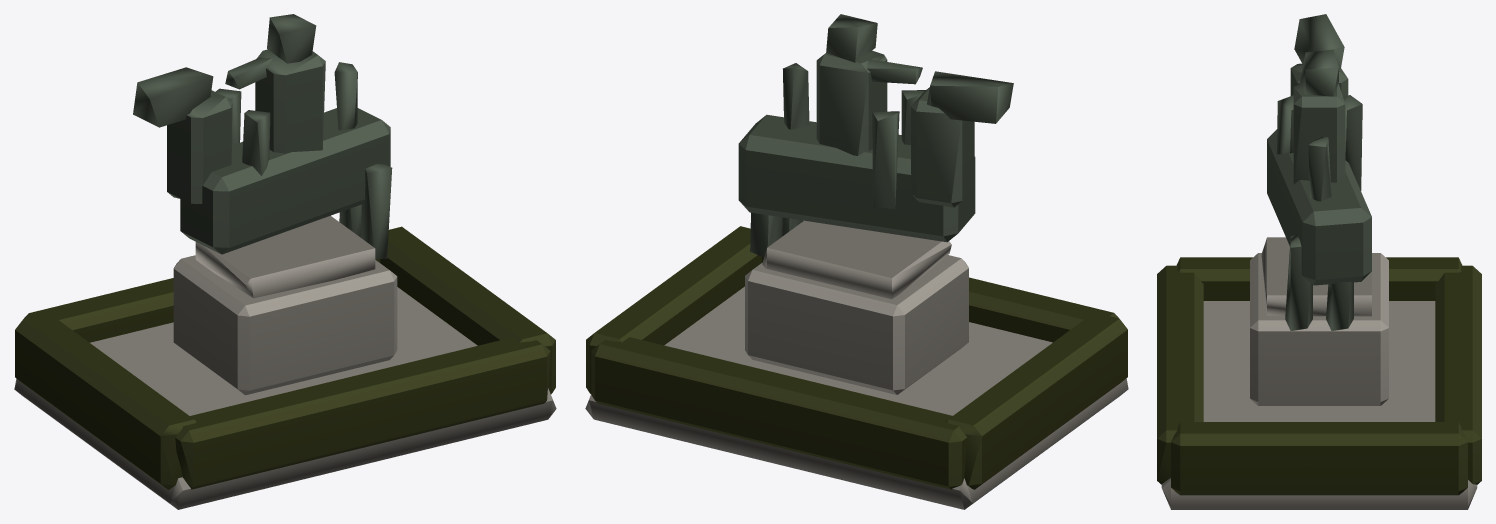
File: statue-rider-v1.lod1.glb
3 views of the same model, side by side, from view 1: azimuth 30°, elevation 25°; view 2: azimuth 150°, elevation 25°; view 3: azimuth 270°, elevation 25° (orthographic). The views are drawn at different scales.
Parts seen in each view (by area): view 1: statue-rider-v1.lod1; view 2: statue-rider-v1.lod1; view 3: statue-rider-v1.lod1.
Boxes of the visible parts, box(x1,y1,x2,y2) form: statue-rider-v1.lod1: box(14, 14, 556, 509); statue-rider-v1.lod1: box(585, 14, 1128, 509); statue-rider-v1.lod1: box(1157, 14, 1481, 509).
Bounding box in the file's own units: 4.7 × 4.4 × 3.5.
